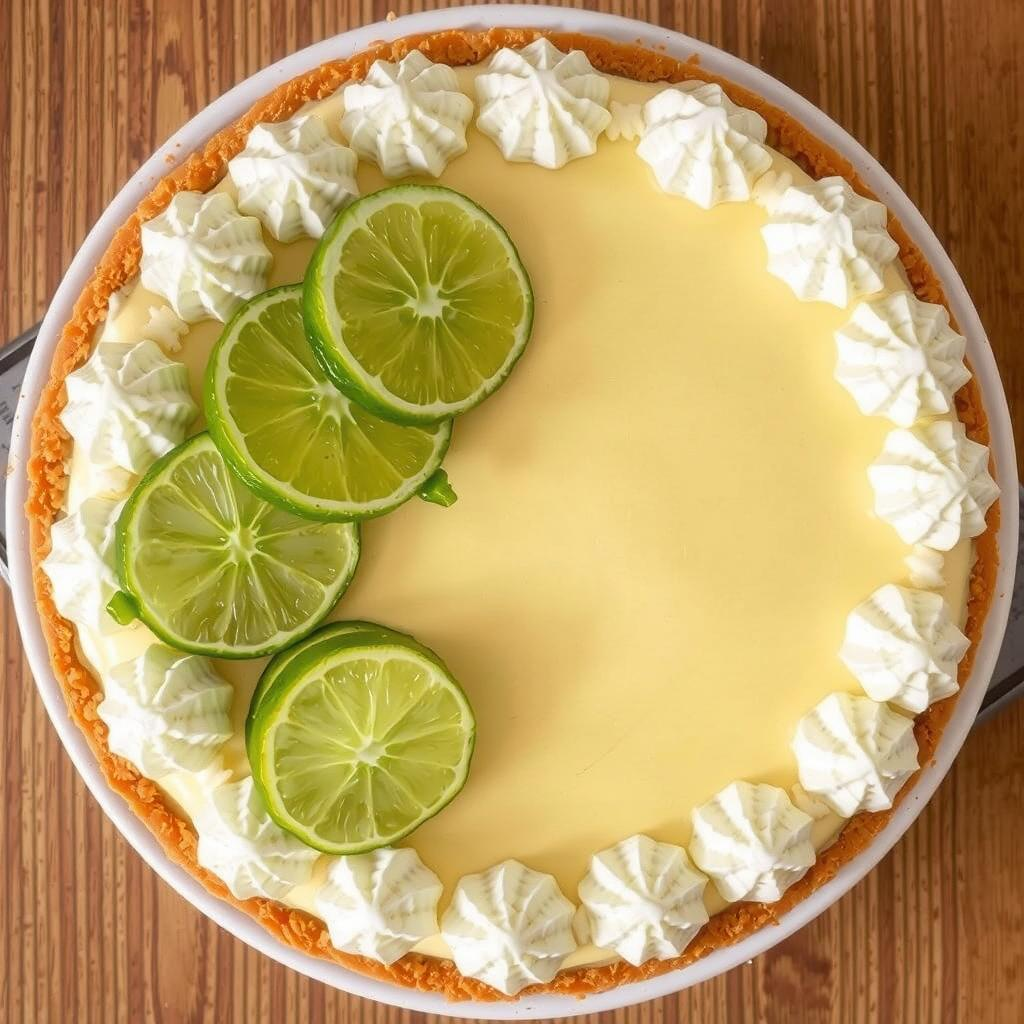pie: (16, 23, 1013, 1003)
